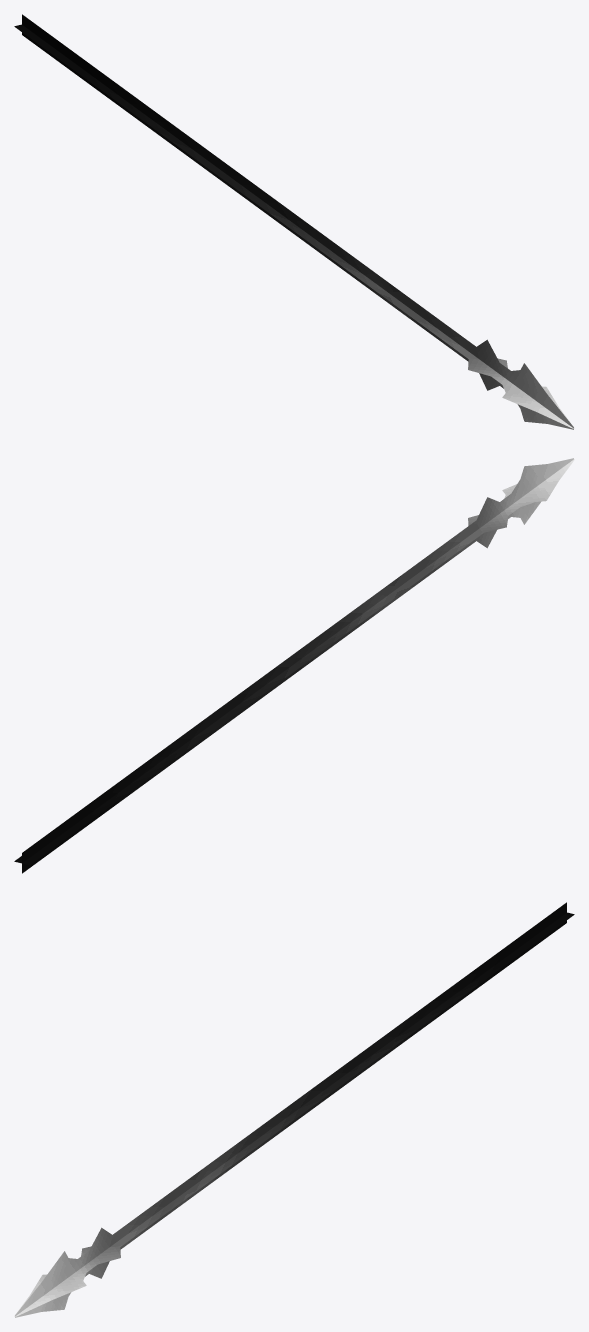
File: proj_skuld_att01.fbx
The picture shows the model from 3 angles, top to bottom: view 1: azimuth 30°, elevation 25°; view 2: azimuth 150°, elevation 25°; view 3: azimuth 330°, elevation 25°; orthographic projection.
Visible parts, largest first — view 1: mesh_arrow; view 2: mesh_arrow; view 3: mesh_arrow.
Part boxes in pixels (x1=…): mesh_arrow: x1=14, y1=14, x2=574, y2=429; mesh_arrow: x1=14, y1=458, x2=574, y2=873; mesh_arrow: x1=14, y1=902, x2=574, y2=1317.
Size of the model in its own units: 0.0875 by 0.1105 by 1.88.
